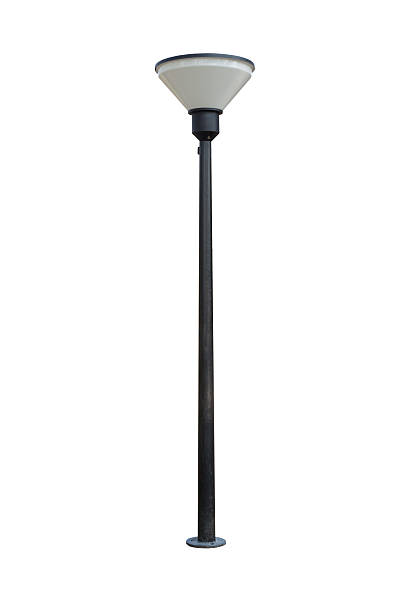light_pole: (192, 155, 226, 542)
